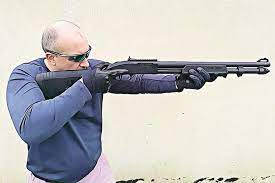weapon: (35, 60, 272, 100)
